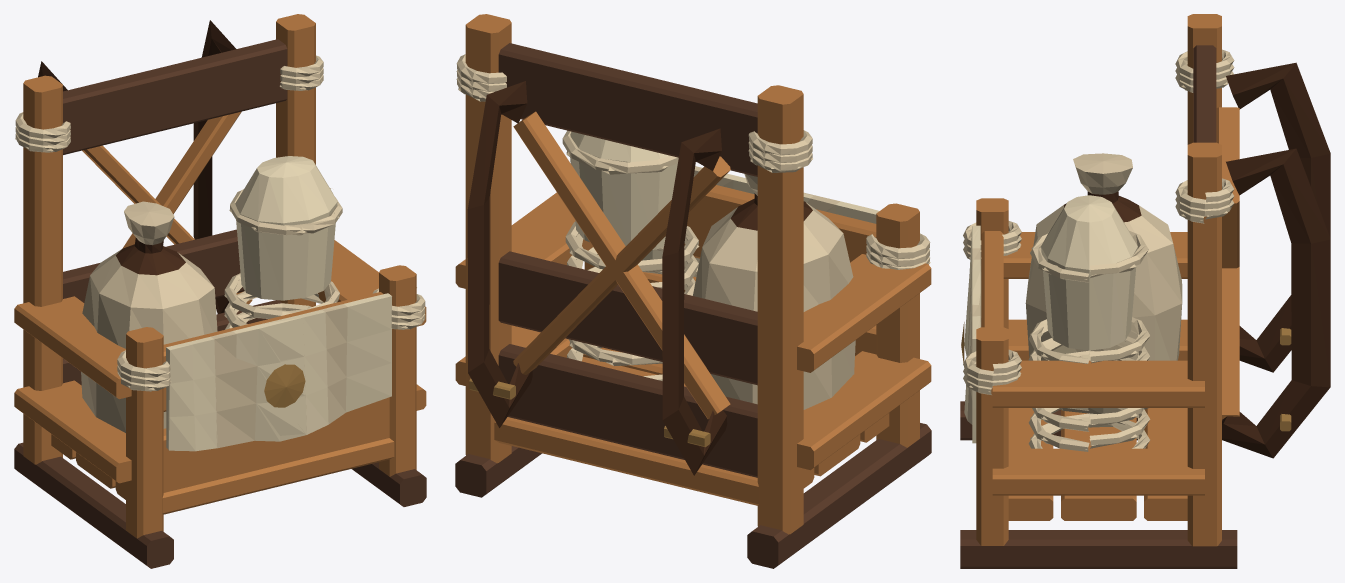
File: prop_trade_pack_maritime_a.glb
3 renders of one model, left to right at view 1: azimuth 30°, elevation 25°; view 2: azimuth 150°, elevation 25°; view 3: azimuth 270°, elevation 25°, orthographic. The views are drawn at different scales.
Parts seen in each view (by area): view 1: prop_trade_pack_maritime_a_freight_0, prop_trade_pack_maritime_a_freight_1; view 2: prop_trade_pack_maritime_a_freight_0, prop_trade_pack_maritime_a_freight_1; view 3: prop_trade_pack_maritime_a_freight_0, prop_trade_pack_maritime_a_freight_1.
Boxes of the visible parts, <box> form: prop_trade_pack_maritime_a_freight_0: <box>14,14,426,568</box>; prop_trade_pack_maritime_a_freight_1: <box>15,80,423,448</box>; prop_trade_pack_maritime_a_freight_0: <box>455,14,931,568</box>; prop_trade_pack_maritime_a_freight_1: <box>458,87,930,365</box>; prop_trade_pack_maritime_a_freight_0: <box>960,14,1330,568</box>; prop_trade_pack_maritime_a_freight_1: <box>964,82,1227,449</box>.
Size of the model in its own units: 0.81 by 0.99 by 0.8028.
